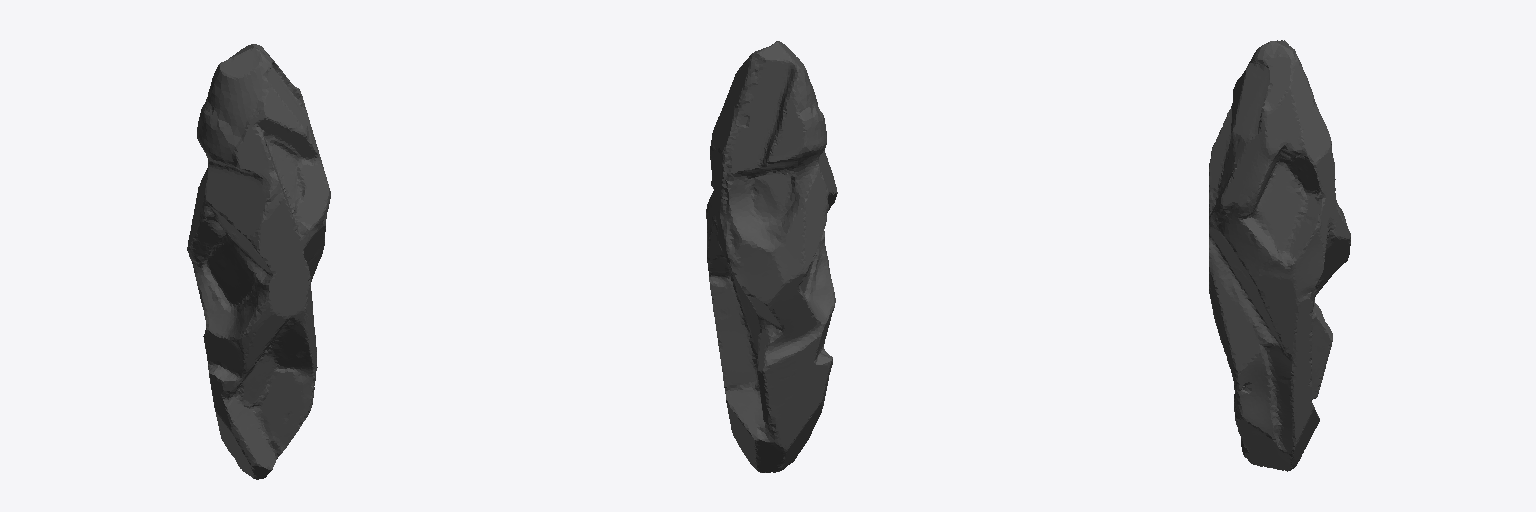
Rendered from FloatingCylinder_1.obj.
3 views of the same model, side by side, from view 1: azimuth 30°, elevation 25°; view 2: azimuth 150°, elevation 25°; view 3: azimuth 270°, elevation 25° (orthographic).
Parts seen in each view (by area): view 1: Cylinder.001; view 2: Cylinder.001; view 3: Cylinder.001.
Boxes of the visible parts, x1=… form: Cylinder.001: x1=187, y1=44, x2=330, y2=479; Cylinder.001: x1=706, y1=41, x2=837, y2=472; Cylinder.001: x1=1209, y1=40, x2=1350, y2=471.
Size of the model in its own units: 3.42 by 12.19 by 3.71.